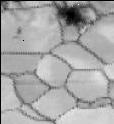good_void: (55, 3, 94, 27), (15, 26, 21, 34)
